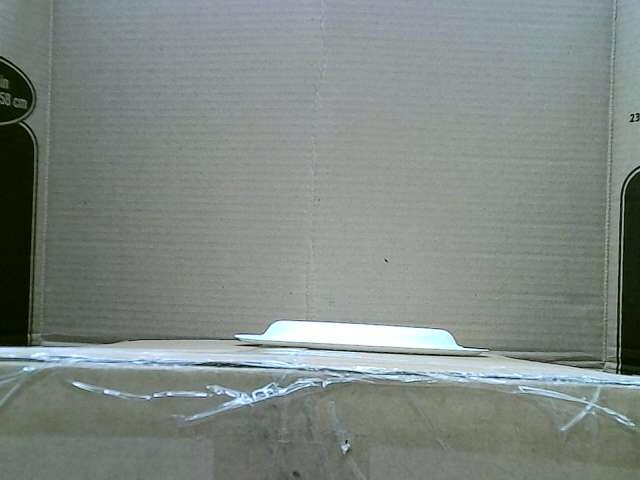Plate: (234, 320, 491, 356)
